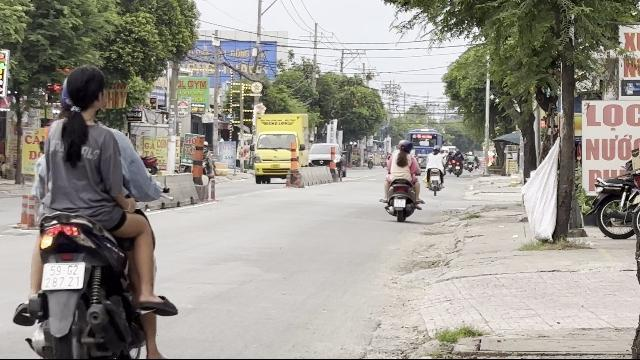licenseplate: (42, 262, 84, 290)
motorcyclist: (12, 65, 176, 356)
nohelmet: (60, 65, 106, 117)
